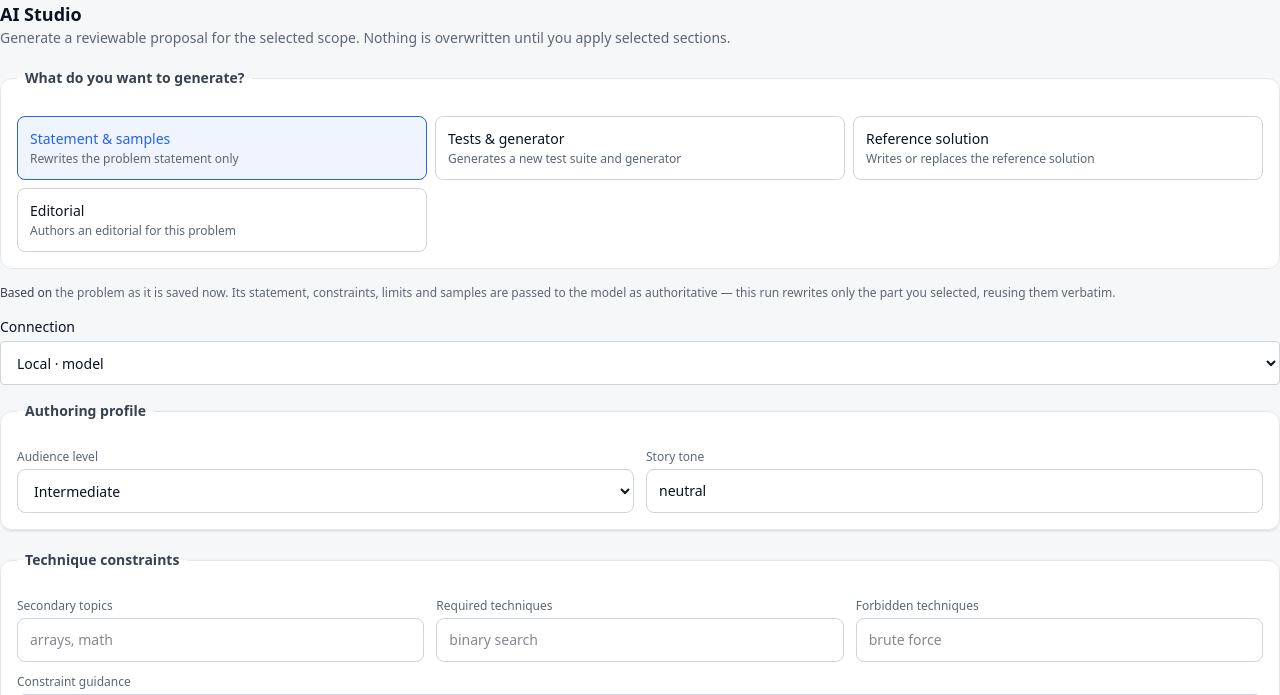
Scenario: an editorial asks for no topics, rating or test count
Click the radio button labelled "Editorial Authors an editorial for this problem" at (222,220), box [17,188,427,252]
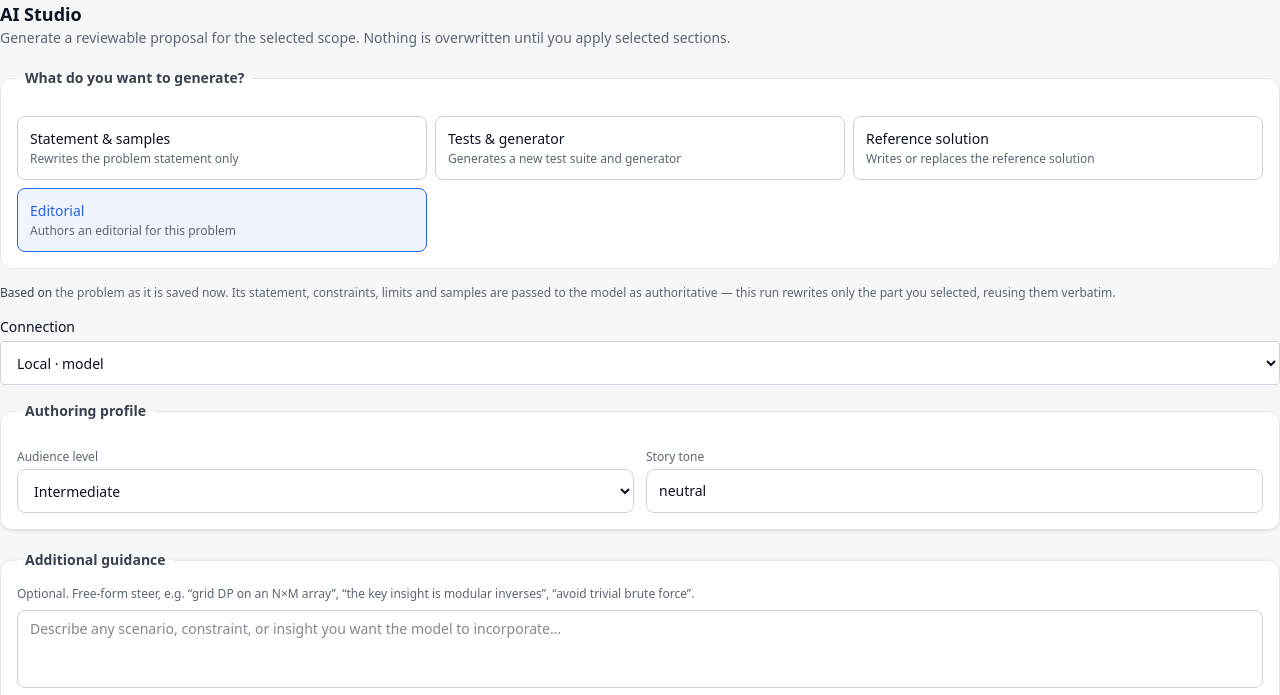
Expected: the text "Audience level" is shown, [17,449,634,513]
Expected: the text "Technique constraints" is gone
